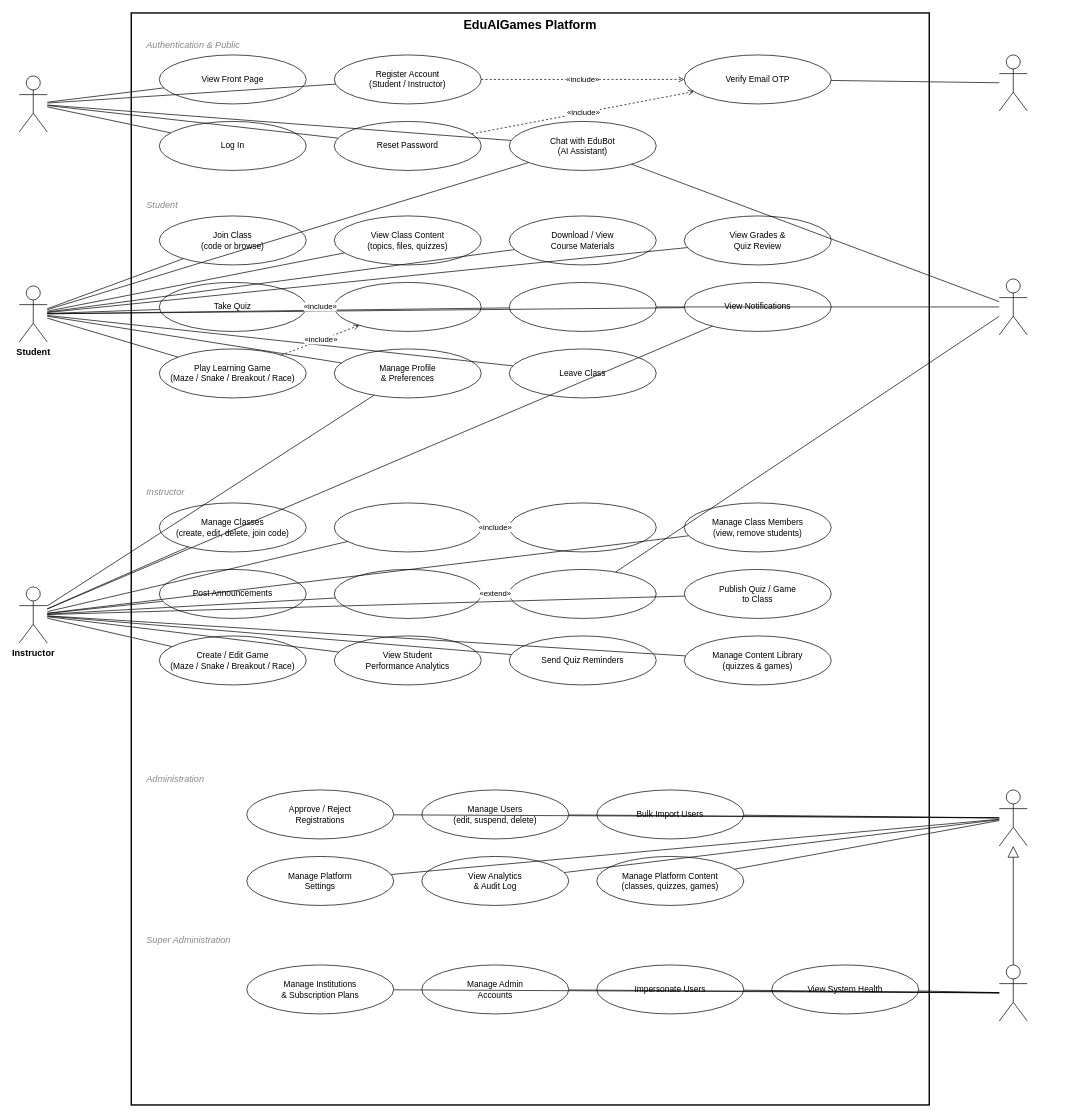
Image size: 1065x1117. Some labels were removed from this diagram. The shapes that lost their labels are listed below. From the top down, each one's centre as x and y in pixels, then its label:
At pixel 1013 82: "SMTP Email Service «external system»".
At pixel 33 103: "Guest".
At pixel 407 306: "Submit Quiz Attempt".
At pixel 582 306: "Use AI Study Coach (insights, review, practice)".
At pixel 1013 306: "OpenAI API «external system»".
At pixel 407 527: "Manage Class Topics & Content".
At pixel 582 527: "Upload Course Files".
At pixel 407 593: "Create / Edit Quiz".
At pixel 582 593: "Generate Quiz with AI".
At pixel 1013 817: "Admin".
At pixel 1013 992: "Super Admin".
